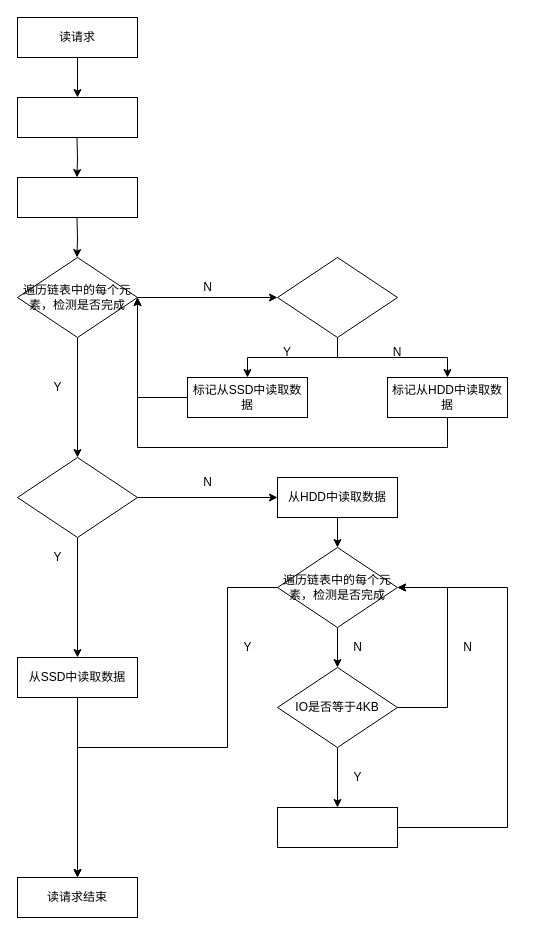
The diagram is 533 pixels wide and 935 high, and some of its shapes have lost their labels. The centre of each missing label's shape, as x and y in pixels:
"Hash映射，获取相应的Set" goes at point (77, 117).
"将数据写回至SSD中，并更新元数据" goes at point (337, 827).
"检查是否全部命中" goes at point (77, 497).
"检查是否命中Cache" goes at point (337, 297).
"默认按照4K大小切分BIO，并存放至链表中" goes at point (77, 197).
